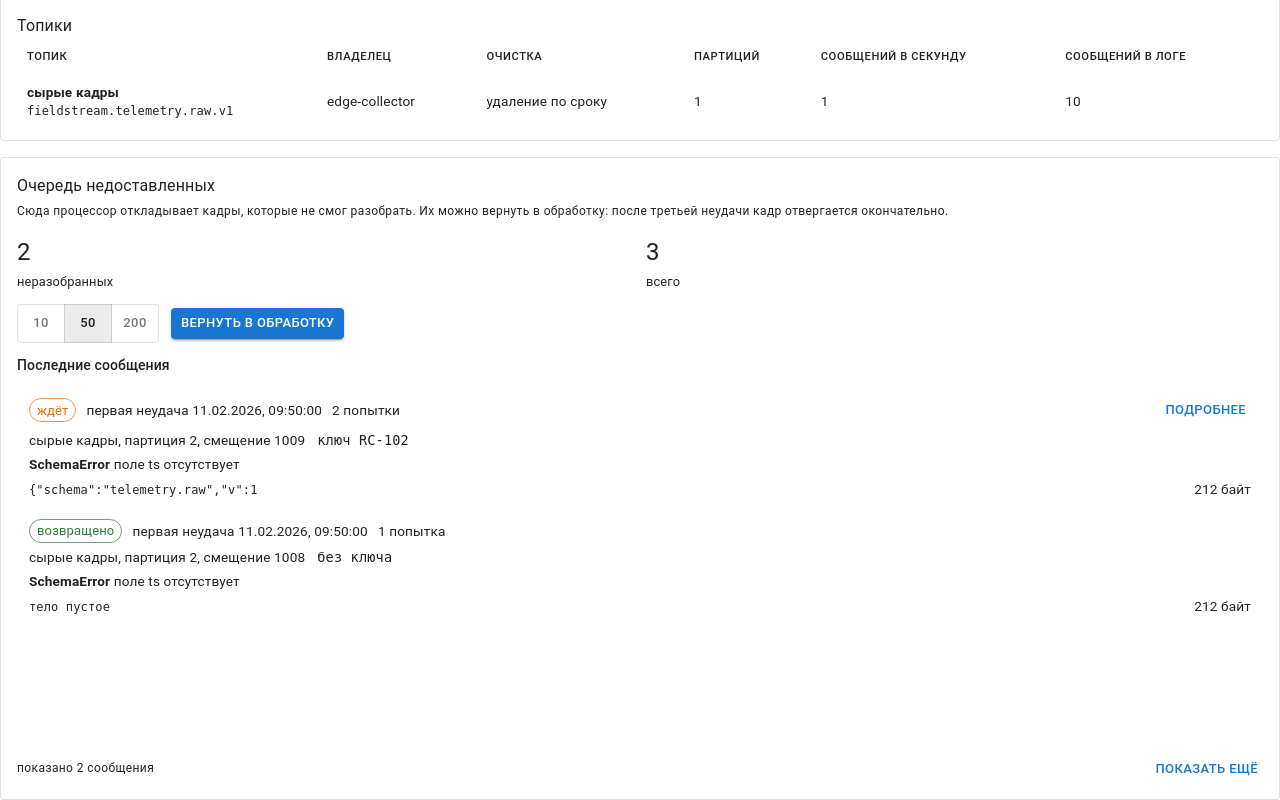
Test: очередь недоставленных на экране конвейера › список показывает сообщения, а курсор подгружает следующую страницу
(page scrolled)
Expected: the number of list items is 2, top-left (29, 385), bottom-right (1251, 509); top-left (29, 509), bottom-right (1251, 626)
Expected: the text "ждёт" is shown, top-left (37, 403), bottom-right (68, 418)
What coordinates should you click on to do the following:
click the button "Показать ещё"
I would click on:
 (1207, 769)
Its box is top-left (1150, 754), bottom-right (1263, 784).
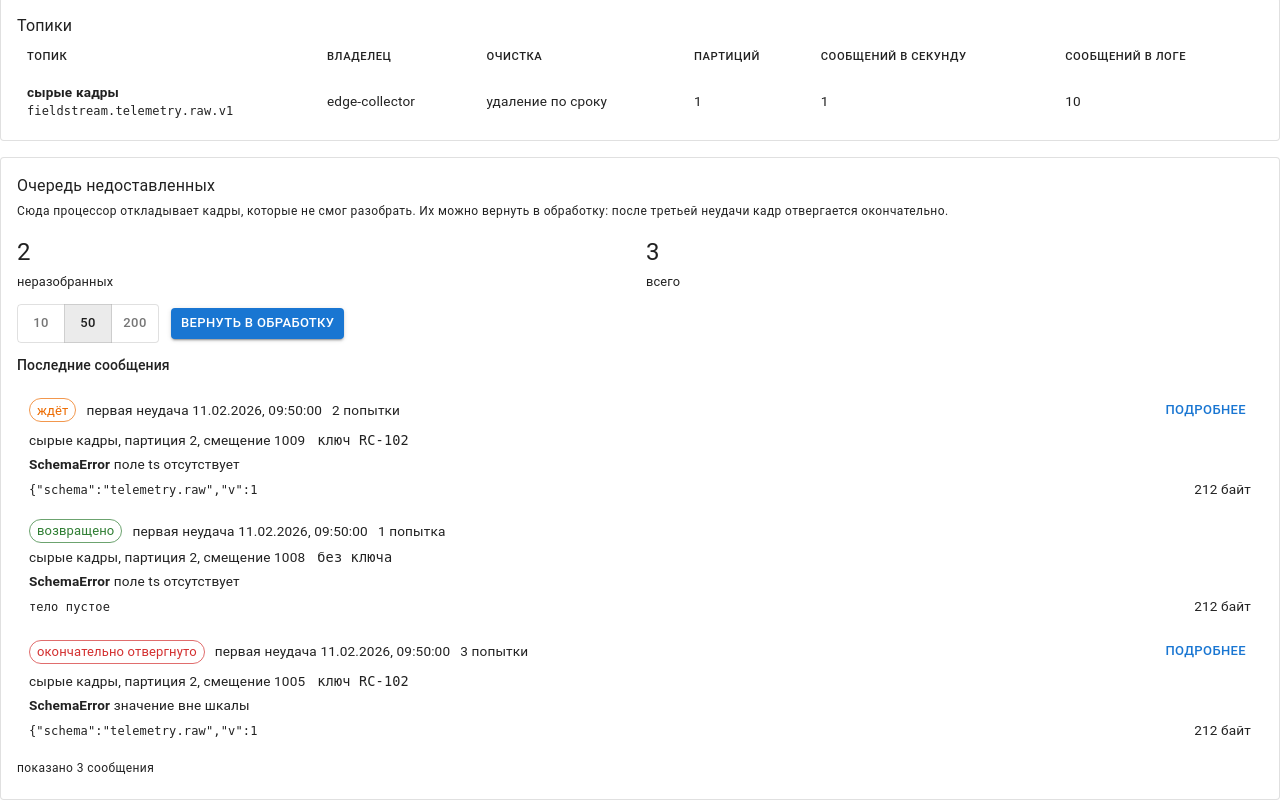
Expected: the number of list items is 3, top-left (29, 385), bottom-right (1251, 509); top-left (29, 509), bottom-right (1251, 626); top-left (29, 626), bottom-right (1251, 745)
Expected: the text "окончательно отвергнуто" is shown, top-left (30, 642), bottom-right (204, 661)
Expected: the text "3 попытки" is shown, top-left (460, 641), bottom-right (528, 662)
